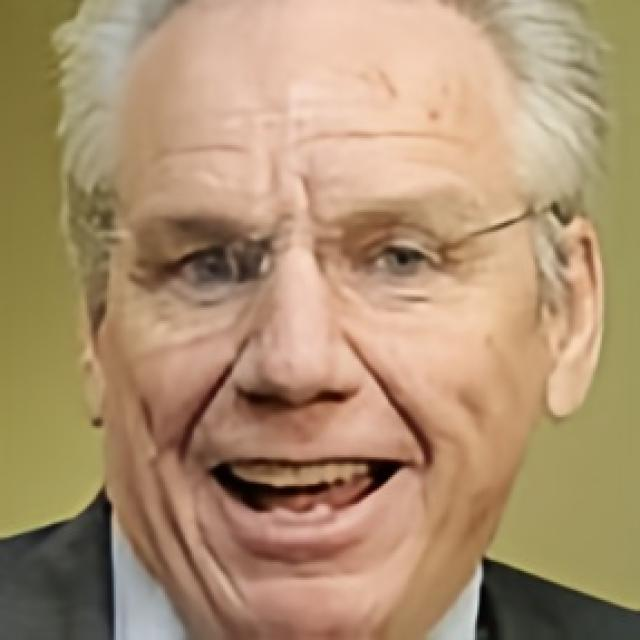happy: (98, 40, 538, 633)
